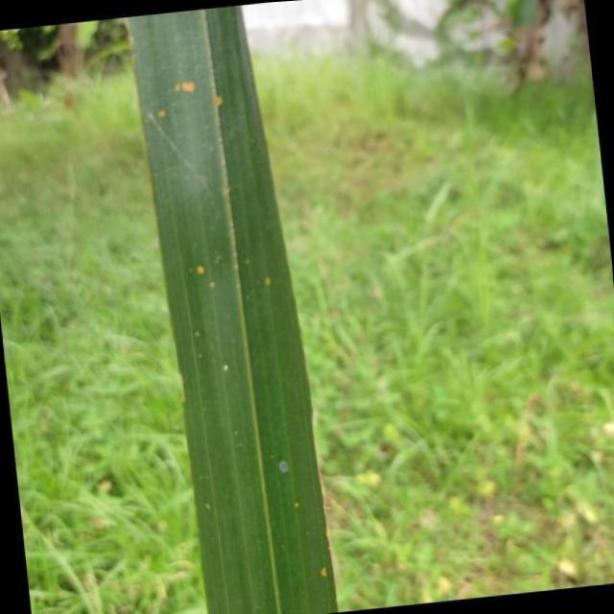Boron: (126, 6, 342, 614)
